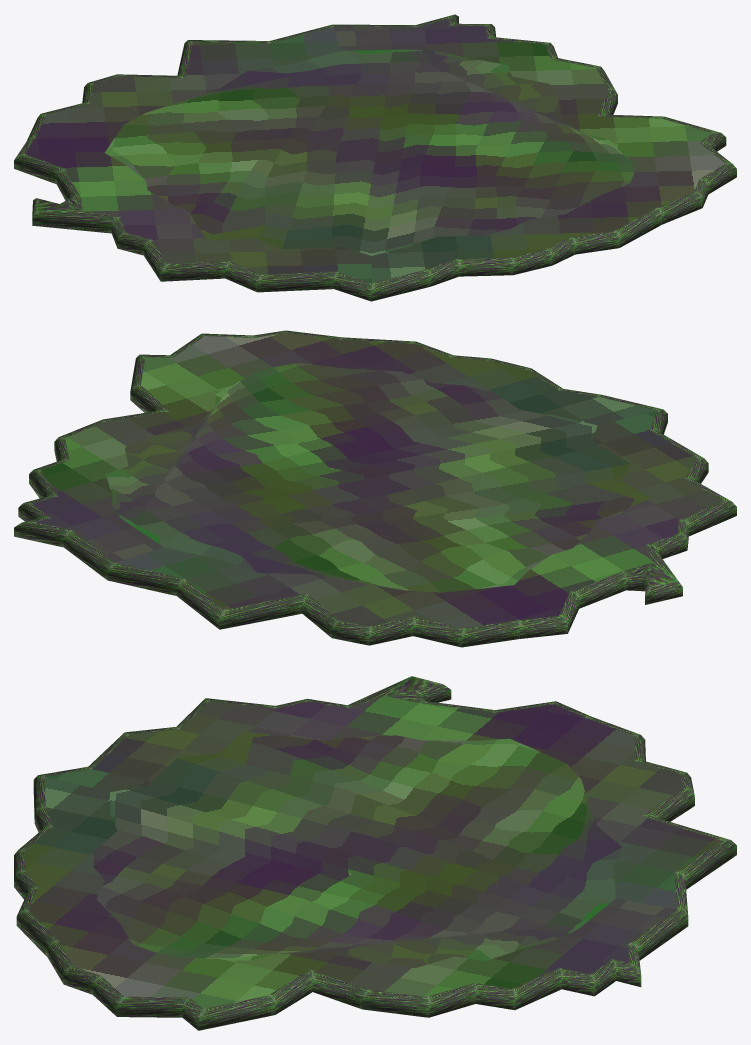
File: IAEP project_rocket.fbx
3 views of the same model, one above another, from view 1: azimuth 30°, elevation 25°; view 2: azimuth 150°, elevation 25°; view 3: azimuth 270°, elevation 25° (orthographic). The views are drawn at different scales.
Parts seen in each view (by area): view 1: base; view 2: base; view 3: base.
Boxes of the visible parts, bbox=[...] form: base: bbox=[14, 14, 736, 301]; base: bbox=[14, 330, 736, 647]; base: bbox=[14, 676, 736, 1030].
Size of the model in its own units: 3154 by 68.7 by 2822.
